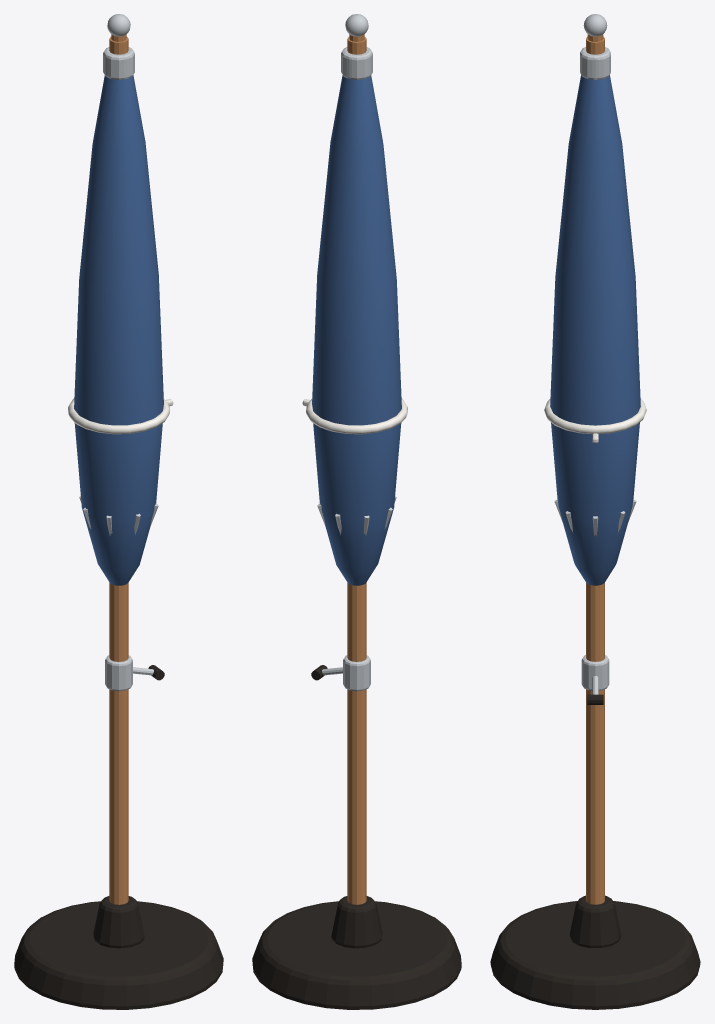
The model's file is hh_cat_parasol.glb.
3 renders of one model, left to right at view 1: azimuth 30°, elevation 25°; view 2: azimuth 150°, elevation 25°; view 3: azimuth 270°, elevation 25°, orthographic.
Visible parts, largest first — view 1: canopy, parasol_base, pole, base_socket, tie, hub, crank_housing; view 2: canopy, parasol_base, pole, base_socket, tie, hub, crank_housing; view 3: canopy, parasol_base, pole, base_socket, tie, hub, crank_housing.
Part boxes in pixels (x1=…): canopy: x1=74, y1=75, x2=163, y2=585; parasol_base: x1=14, y1=901, x2=223, y2=1009; pole: x1=109, y1=37, x2=128, y2=904; base_socket: x1=93, y1=896, x2=144, y2=948; tie: x1=68, y1=398, x2=169, y2=434; hub: x1=103, y1=47, x2=134, y2=79; crank_housing: x1=105, y1=655, x2=132, y2=691; canopy: x1=312, y1=75, x2=401, y2=585; parasol_base: x1=252, y1=901, x2=461, y2=1009; pole: x1=347, y1=37, x2=366, y2=904; base_socket: x1=331, y1=896, x2=382, y2=948; tie: x1=306, y1=398, x2=407, y2=434; hub: x1=341, y1=47, x2=372, y2=79; crank_housing: x1=343, y1=655, x2=370, y2=691; canopy: x1=550, y1=75, x2=640, y2=585; parasol_base: x1=490, y1=901, x2=700, y2=1009; pole: x1=586, y1=36, x2=604, y2=904; base_socket: x1=569, y1=895, x2=621, y2=947; tie: x1=544, y1=399, x2=646, y2=434; hub: x1=580, y1=47, x2=610, y2=79; crank_housing: x1=581, y1=655, x2=609, y2=690.
Bounding box in the file's own units: 0.4 × 2 × 0.4.
